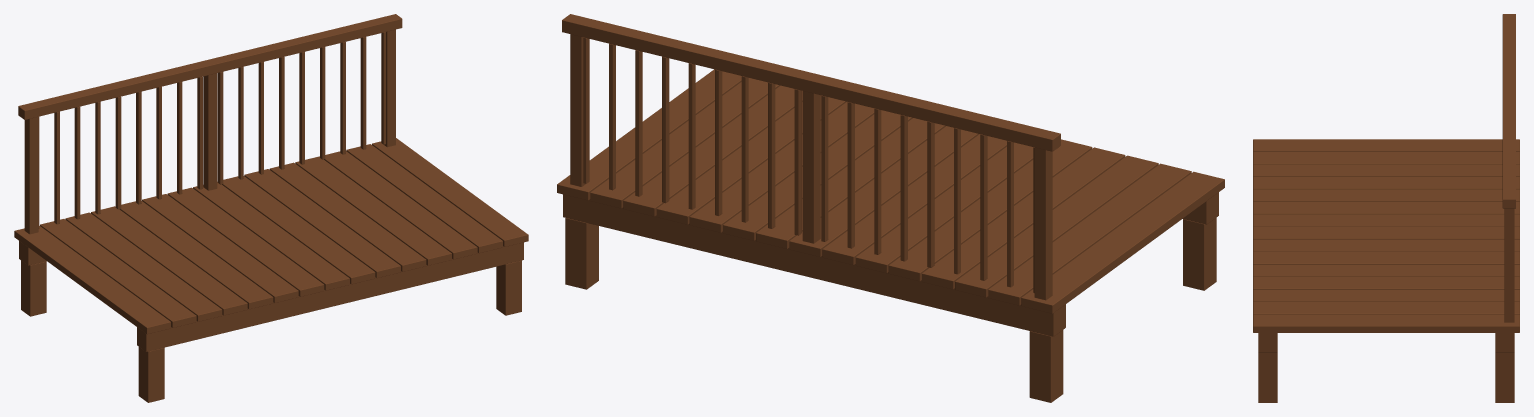
The model's file is kampung-timber-veranda.glb.
3 views of the same model, side by side, from view 1: azimuth 30°, elevation 25°; view 2: azimuth 150°, elevation 25°; view 3: azimuth 270°, elevation 25° (orthographic). The views are drawn at different scales.
Visible parts, largest first — view 1: Beam.001, Top_Rail, Deck_Plank_0, Deck_Plank_2, Deck_Plank_6, Deck_Plank_9, Deck_Plank_1, Deck_Plank_10, Deck_Plank_13, Deck_Plank_3, Deck_Plank_11, Deck_Plank_5 (+28 smaller); view 2: Beam, Top_Rail, Deck_Plank_0, Deck_Plank_1, Deck_Plank_2, Deck_Plank_3, Deck_Plank_4, Deck_Plank_6, Deck_Plank_13, Deck_Plank_5, Deck_Plank_12, Deck_Plank_14 (+29 smaller); view 3: Deck_Plank_14, Deck_Plank_1, Deck_Plank_11, Deck_Plank_13, Deck_Plank_6, Deck_Plank_8, Deck_Plank_9, Deck_Plank_10, Deck_Plank_12, Deck_Plank_7, Deck_Plank_5, Deck_Plank_0 (+9 smaller).
Boxes of the visible parts, x1,y1,x2,y2 form: Beam.001: [137, 242, 523, 351]; Top_Rail: [18, 14, 402, 119]; Deck_Plank_0: [14, 226, 170, 334]; Deck_Plank_2: [65, 212, 222, 321]; Deck_Plank_6: [167, 187, 324, 296]; Deck_Plank_9: [244, 169, 400, 277]; Deck_Plank_1: [40, 219, 196, 327]; Deck_Plank_10: [269, 162, 426, 271]; Deck_Plank_13: [346, 144, 502, 253]; Deck_Plank_3: [91, 206, 247, 315]; Deck_Plank_11: [295, 156, 451, 265]; Deck_Plank_5: [142, 194, 298, 302]; Beam: [563, 194, 1065, 336]; Top_Rail: [562, 14, 1060, 151]; Deck_Plank_0: [1021, 171, 1224, 313]; Deck_Plank_1: [988, 163, 1191, 305]; Deck_Plank_2: [955, 155, 1158, 297]; Deck_Plank_3: [922, 147, 1125, 289]; Deck_Plank_4: [888, 139, 1092, 281]; Deck_Plank_6: [822, 134, 1006, 265]; Deck_Plank_13: [590, 78, 780, 208]; Deck_Plank_5: [855, 142, 1033, 273]; Deck_Plank_12: [623, 85, 802, 216]; Deck_Plank_14: [557, 69, 741, 200]; Deck_Plank_14: [1253, 314, 1519, 332]; Deck_Plank_1: [1253, 151, 1519, 164]; Deck_Plank_11: [1253, 277, 1519, 289]; Deck_Plank_13: [1253, 302, 1519, 314]; Deck_Plank_6: [1253, 214, 1519, 226]; Deck_Plank_8: [1253, 239, 1519, 251]; Deck_Plank_9: [1253, 252, 1519, 264]; Deck_Plank_10: [1253, 264, 1519, 276]; Deck_Plank_12: [1253, 289, 1519, 301]; Deck_Plank_7: [1253, 227, 1519, 239]; Deck_Plank_5: [1253, 202, 1519, 214]; Deck_Plank_0: [1253, 139, 1519, 151].
Size of the model in its own units: 2.99 by 1.53 by 1.8.
